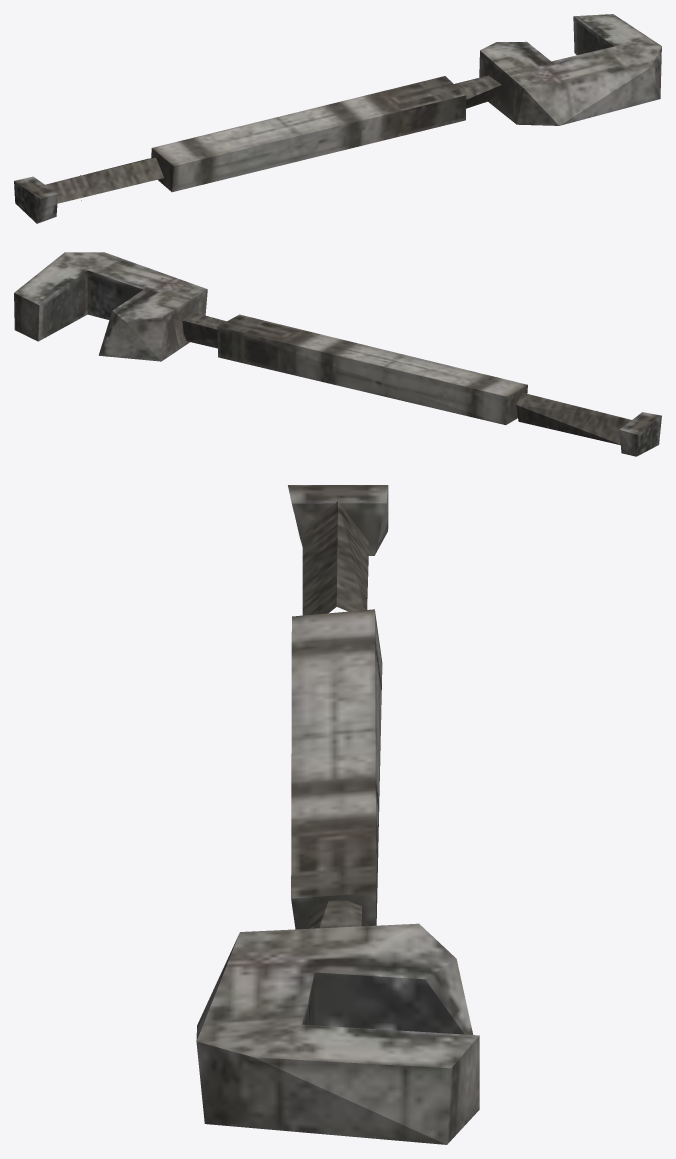
File: prop.wrench.lod.glb
3 renders of one model, top to bottom at view 1: azimuth 30°, elevation 25°; view 2: azimuth 150°, elevation 25°; view 3: azimuth 270°, elevation 25°, orthographic. The views are drawn at different scales.
Parts seen in each view (by area): view 1: body; view 2: body; view 3: body.
Boxes of the visible parts, left/top/right/bottom form: body: left=14, top=14, right=661, bottom=223; body: left=14, top=252, right=661, bottom=456; body: left=196, top=485, right=479, bottom=1144.
Size of the model in its own units: 0.2989 by 0.0212 by 0.0602.
1 material, 1 textured.
